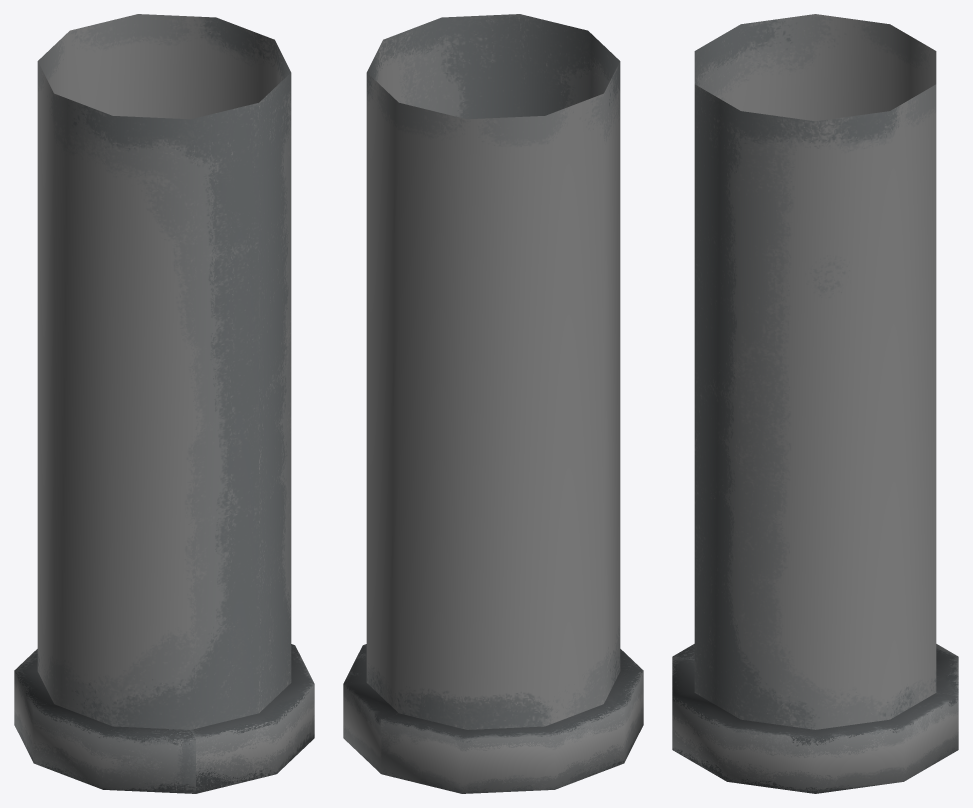
Rendered from CamsPipe.fbx.
The picture shows the model from 3 angles, left to right: view 1: azimuth 30°, elevation 25°; view 2: azimuth 150°, elevation 25°; view 3: azimuth 270°, elevation 25°; orthographic projection.
Parts seen in each view (by area): view 1: pasted__pCylinder6; view 2: pasted__pCylinder6; view 3: pasted__pCylinder6.
Boxes of the visible parts, x1,y1,x2,y2 form: pasted__pCylinder6: (14,14,314,793); pasted__pCylinder6: (343,14,643,793); pasted__pCylinder6: (672,14,958,793).
Bounding box in the file's own units: 88.9 × 216 × 84.55.
